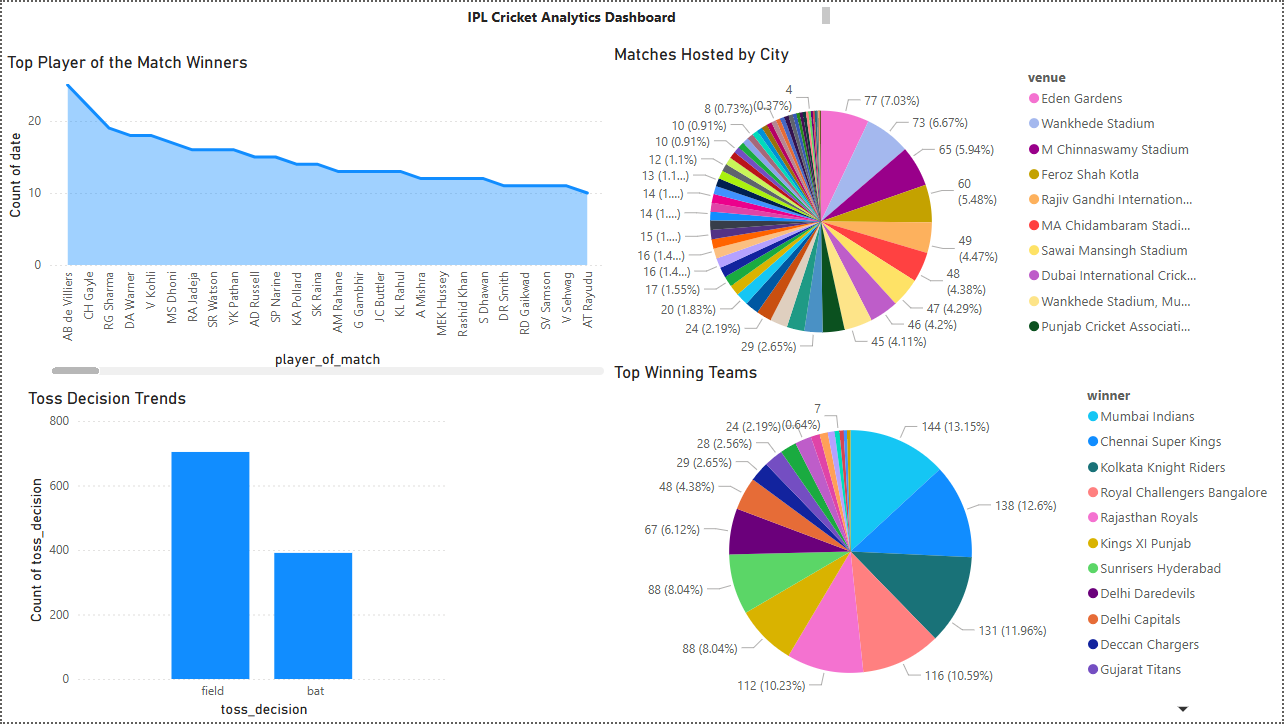

This screenshot's page, from the dashboard's own definition file:
{"tool":"powerbi","page":{"name":"Page 5","canvas":[1280,720],"ordinal":4},"visuals":[{"type":"areaChart","title":"Top Player of the Match Winners","fields":{"Category":["matches.player_of_match"],"Y":["CountNonNull(matches.date)"]},"box":[0,50,607,328],"z":0},{"type":"pieChart","title":"Matches Hosted by City","fields":{"Category":["matches.venue"],"Y":["CountNonNull(matches.venue)"]},"box":[607,42,602,336],"z":1000},{"type":"lineStackedColumnComboChart","title":"Toss Decision Trends","fields":{"Category":["matches.toss_decision"],"Y":["CountNonNull(matches.toss_decision)"]},"box":[21,386,431,334],"z":2000},{"type":"pieChart","title":"Top Winning Teams","fields":{"Category":["matches.winner"],"Y":["CountNonNull(matches.winner)"]},"box":[607,360,673,360],"z":3000},{"type":"textbox","box":[314,0,519,28],"z":3001}]}

Visuals, with their boxes in screenshot pixels (x1, y1, x2, y2), scaled from the page's 1280x720 canvas onto the 1285x724 screenshot:
"Top Player of the Match Winners" areaChart: pyautogui.locateOnScreen(0, 50, 609, 380)
"Matches Hosted by City" pieChart: pyautogui.locateOnScreen(609, 42, 1214, 380)
"Toss Decision Trends" lineStackedColumnComboChart: pyautogui.locateOnScreen(21, 388, 454, 723)
"Top Winning Teams" pieChart: pyautogui.locateOnScreen(609, 362, 1284, 723)
textbox: pyautogui.locateOnScreen(315, 0, 836, 28)
